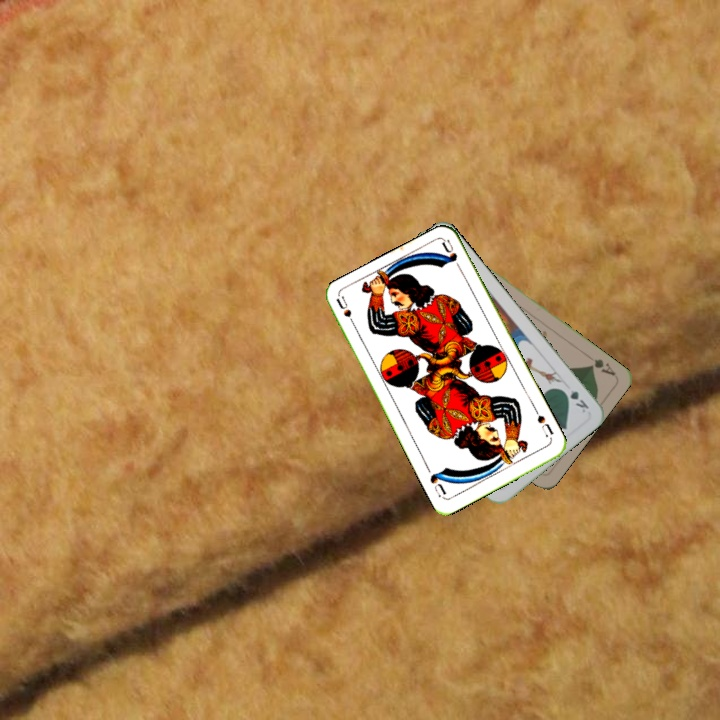GA: (582, 350, 618, 379)
GK: (558, 385, 591, 415)
SU: (332, 293, 360, 332), (531, 405, 556, 440)
